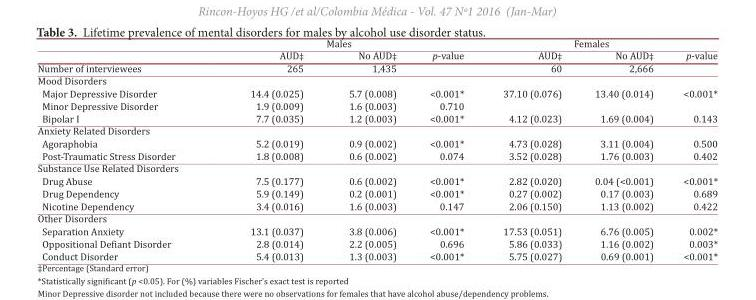table: (36, 36, 717, 261)
table column: (36, 36, 213, 261), (213, 36, 325, 261), (482, 36, 577, 261), (577, 36, 667, 261), (325, 36, 412, 261), (412, 36, 482, 261), (667, 36, 717, 261)
table column header: (36, 36, 717, 61)
table projected row header: (36, 73, 717, 86), (36, 123, 717, 136), (36, 211, 717, 224), (36, 161, 717, 173)
table row: (36, 48, 717, 61), (36, 73, 717, 86), (36, 86, 717, 99), (36, 123, 717, 136), (36, 136, 717, 149), (36, 173, 717, 186), (36, 186, 717, 199), (36, 211, 717, 224), (36, 236, 717, 249), (36, 36, 717, 48), (36, 61, 717, 73), (36, 99, 717, 111), (36, 111, 717, 123), (36, 149, 717, 161), (36, 161, 717, 173), (36, 199, 717, 211), (36, 224, 717, 236), (36, 249, 717, 261)
table spanning cell: (213, 36, 482, 48), (482, 36, 717, 48)
